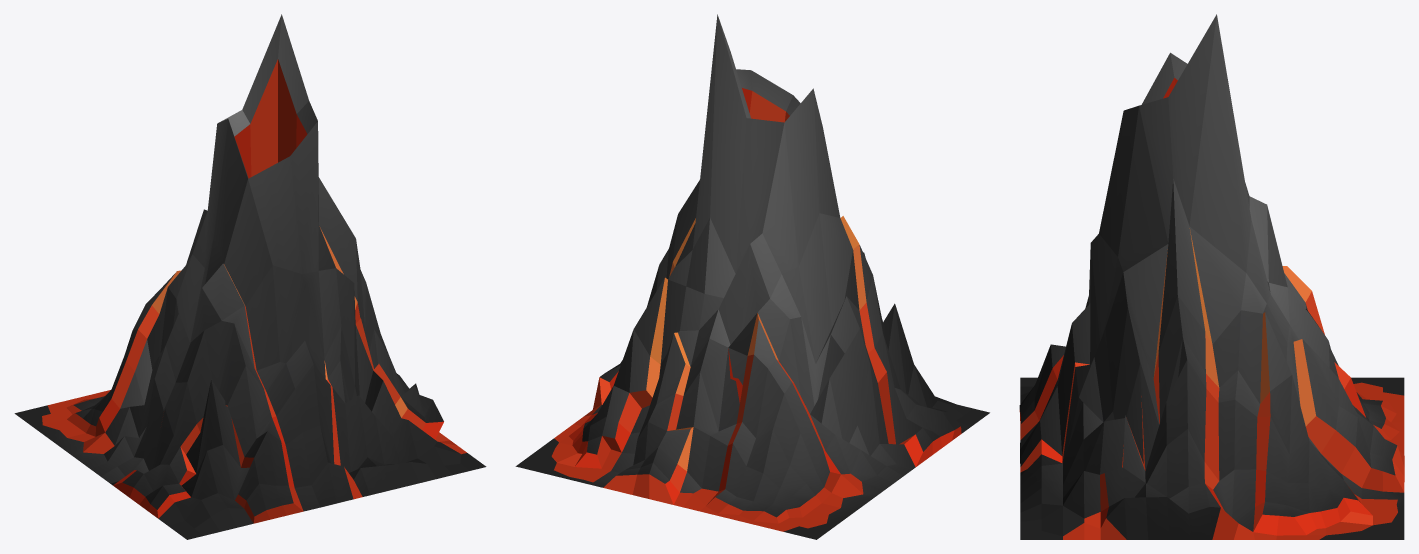
Rendered from Runestrife-Tower-Fire.fbx.
3 renders of one model, left to right at view 1: azimuth 30°, elevation 25°; view 2: azimuth 150°, elevation 25°; view 3: azimuth 270°, elevation 25°, orthographic. The views are drawn at different scales.
Visible parts, largest first — view 1: Grid; view 2: Grid; view 3: Grid.
Boxes of the visible parts, x1,y1,x2,y2 form: Grid: (14, 14, 486, 539); Grid: (515, 14, 989, 539); Grid: (1019, 14, 1404, 539).
Size of the model in its own units: 200 by 266 by 200.
